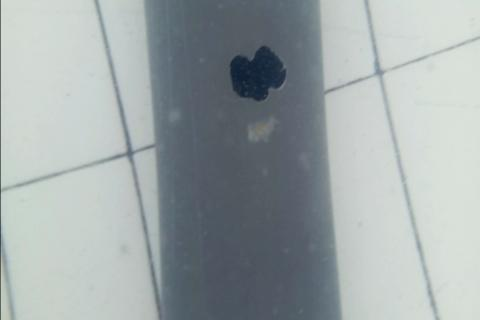kebocoran: (227, 43, 287, 103)
